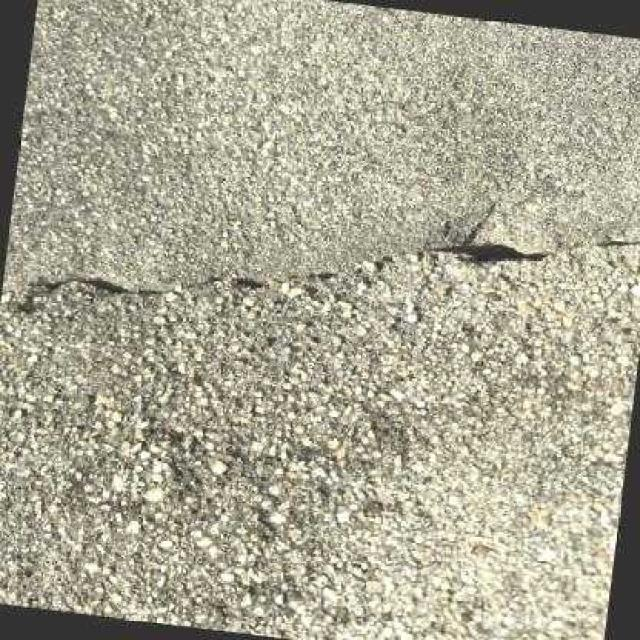D00: (14, 268, 335, 310), (433, 237, 551, 261)
